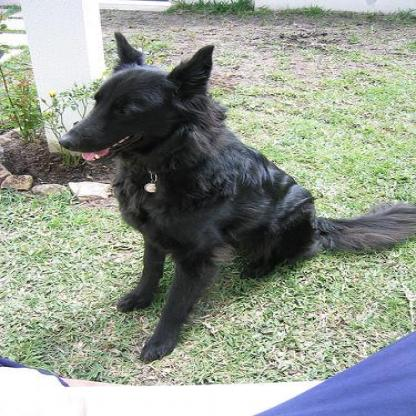groenendael: (60, 30, 413, 362)
